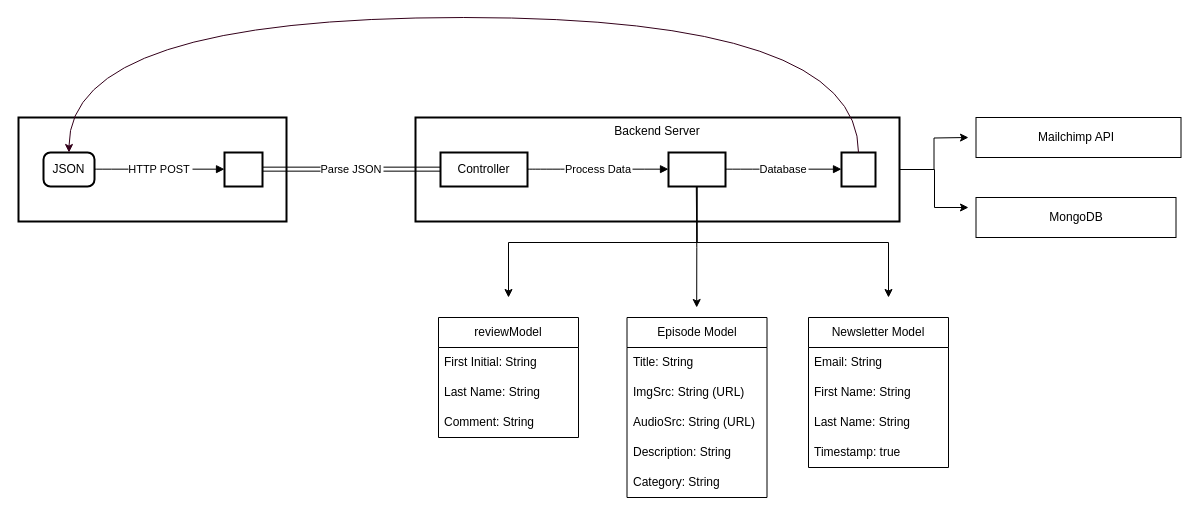
The diagram is 1198 pixels wide and 515 high, and some of its shapes have lost their labels. Each missing label, with the box of its shape:
API: (223, 151, 263, 187)
DB: (840, 151, 876, 187)
Frontend App: (17, 116, 287, 222)
Models: (667, 151, 726, 187)
